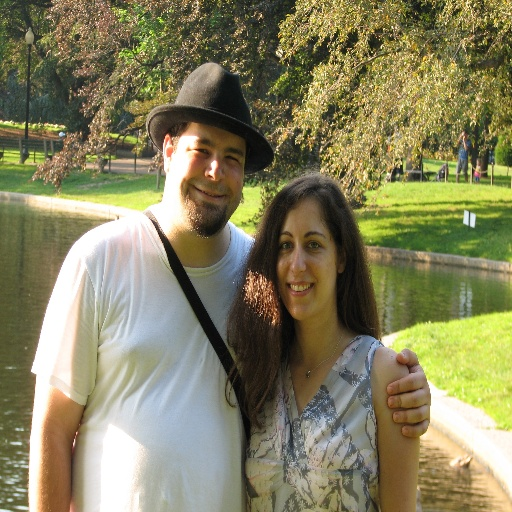hand: (374, 349, 433, 464)
